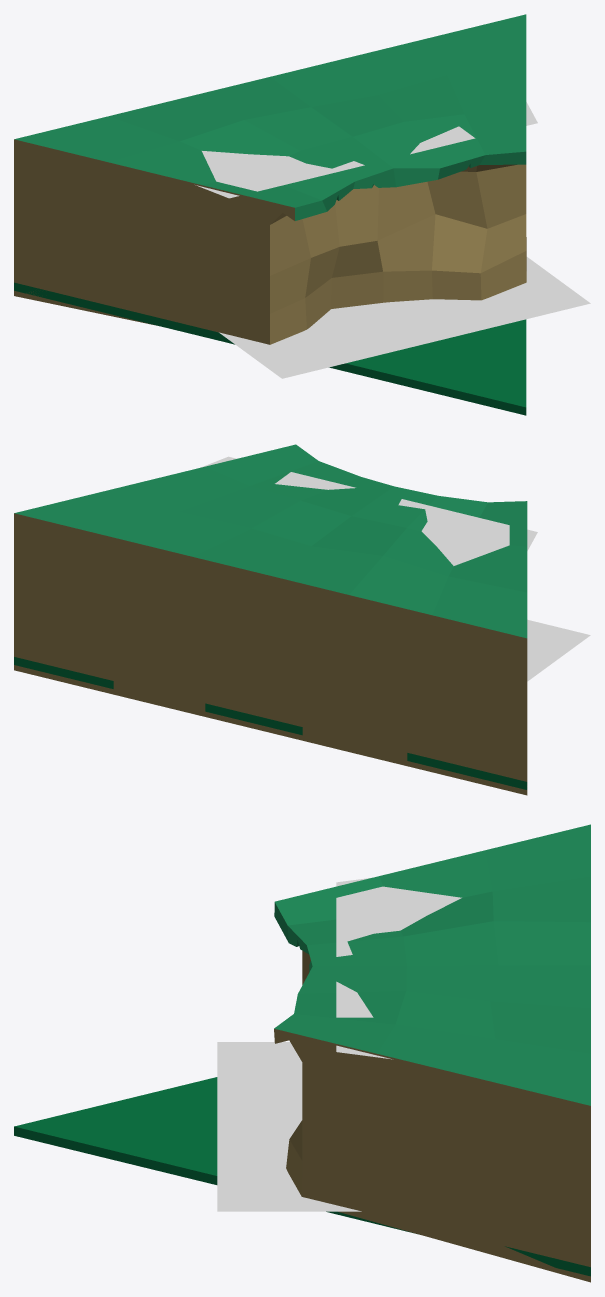
The model's file is tile3.glb.
3 renders of one model, top to bottom at view 1: azimuth 30°, elevation 25°; view 2: azimuth 150°, elevation 25°; view 3: azimuth 270°, elevation 25°, orthographic. The views are drawn at different scales.
Visible parts, largest first — view 1: hill.009, rocks3.002, ground.019, bushes3.002; view 2: hill.009, bushes3.002, ground.019, rocks3.002; view 3: hill.009, rocks3.002, ground.019, bushes3.002.
Part boxes in pixels (x1,y1,x2,y2): hill.009: [14, 14, 526, 344]; rocks3.002: [219, 257, 590, 378]; ground.019: [14, 282, 526, 415]; bushes3.002: [195, 102, 537, 198]; hill.009: [14, 444, 527, 795]; bushes3.002: [201, 456, 537, 565]; ground.019: [14, 657, 527, 789]; rocks3.002: [527, 619, 590, 681]; hill.009: [274, 824, 590, 1282]; rocks3.002: [217, 1042, 361, 1211]; ground.019: [14, 1077, 590, 1276]; bushes3.002: [336, 877, 461, 1059].
Bounding box in the file's own units: 1 × 0.3024 × 0.8661.
